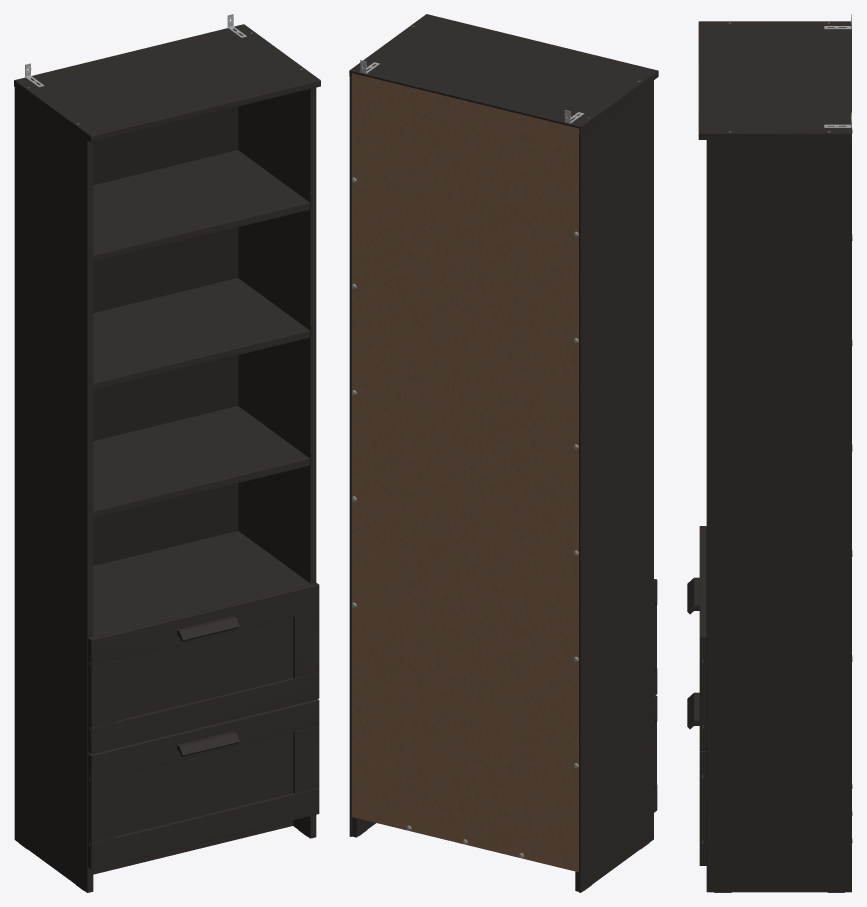
The model's file is storage-9.glb.
3 renders of one model, left to right at view 1: azimuth 30°, elevation 25°; view 2: azimuth 150°, elevation 25°; view 3: azimuth 270°, elevation 25°, orthographic.
Parts seen in each view (by area): view 1: 40301223-BRIMNES001; view 2: 40301223-BRIMNES001; view 3: 40301223-BRIMNES001.
Part boxes in pixels (x1=…): 40301223-BRIMNES001: x1=14, y1=14, x2=320, y2=892; 40301223-BRIMNES001: x1=349, y1=14, x2=658, y2=892; 40301223-BRIMNES001: x1=687, y1=14, x2=852, y2=892.
Size of the model in its own units: 0.602 by 1.93 by 0.3754.
1 material, 1 textured.
